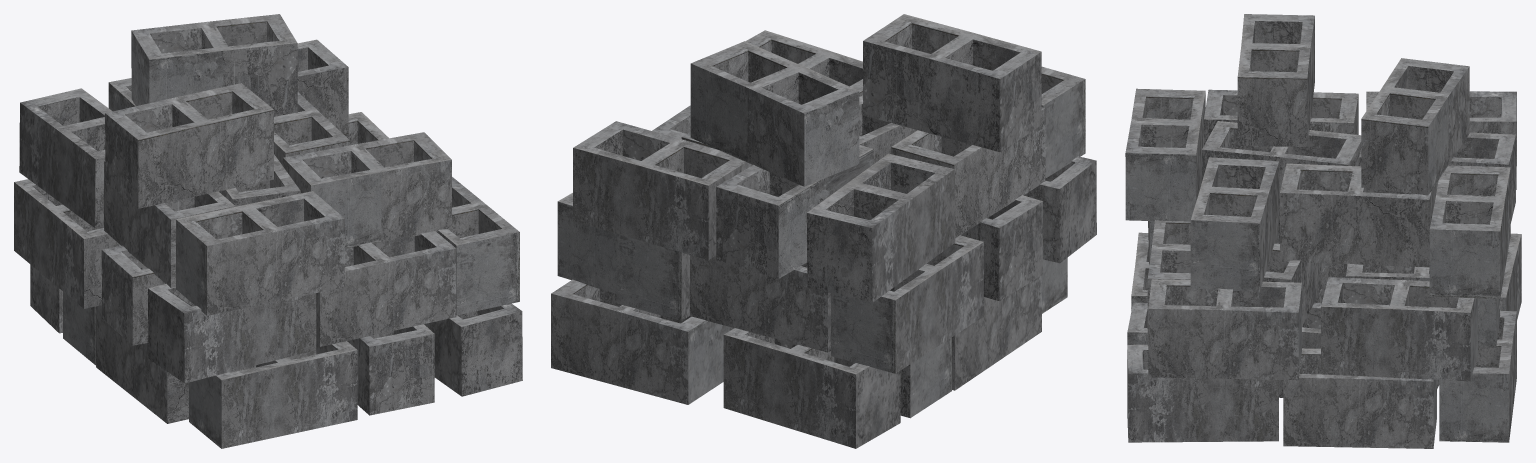
Rendered from Conctereblock02.FBX.
3 views of the same model, side by side, from view 1: azimuth 30°, elevation 25°; view 2: azimuth 150°, elevation 25°; view 3: azimuth 270°, elevation 25° (orthographic). The views are drawn at different scales.
Visible parts, largest first — view 1: Conctereblock02; view 2: Conctereblock02; view 3: Conctereblock02.
Boxes of the visible parts, <box> form: Conctereblock02: <box>14,14,522,448</box>; Conctereblock02: <box>551,14,1096,448</box>; Conctereblock02: <box>1125,14,1521,448</box>.
Bounding box in the file's own units: 71.6 × 55.48 × 72.77.
